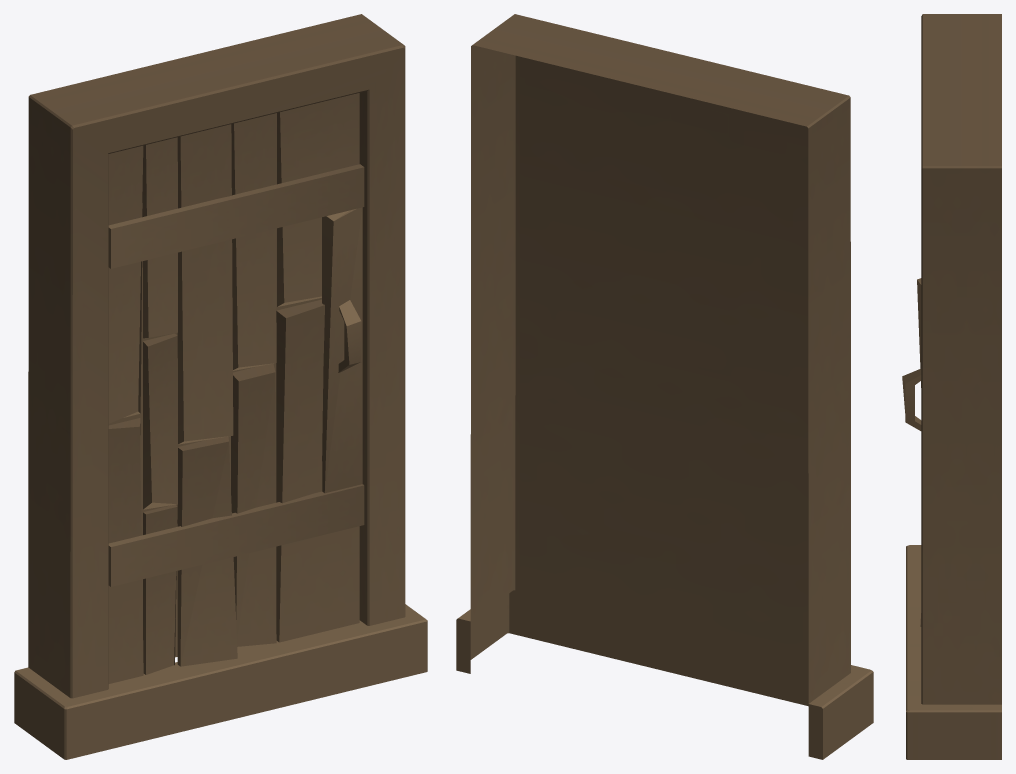
Rendered from ZLP_Build_D_48.FBX.
3 renders of one model, left to right at view 1: azimuth 30°, elevation 25°; view 2: azimuth 150°, elevation 25°; view 3: azimuth 270°, elevation 25°, orthographic. The views are drawn at different scales.
Parts seen in each view (by area): view 1: ZLP_Build_D_48; view 2: ZLP_Build_D_48; view 3: ZLP_Build_D_48.
Boxes of the visible parts, x1=… form: ZLP_Build_D_48: x1=14, y1=14, x2=427, y2=759; ZLP_Build_D_48: x1=456, y1=14, x2=873, y2=759; ZLP_Build_D_48: x1=902, y1=14, x2=1001, y2=759.
Bounding box in the file's own units: 128 × 211 × 32.49.
